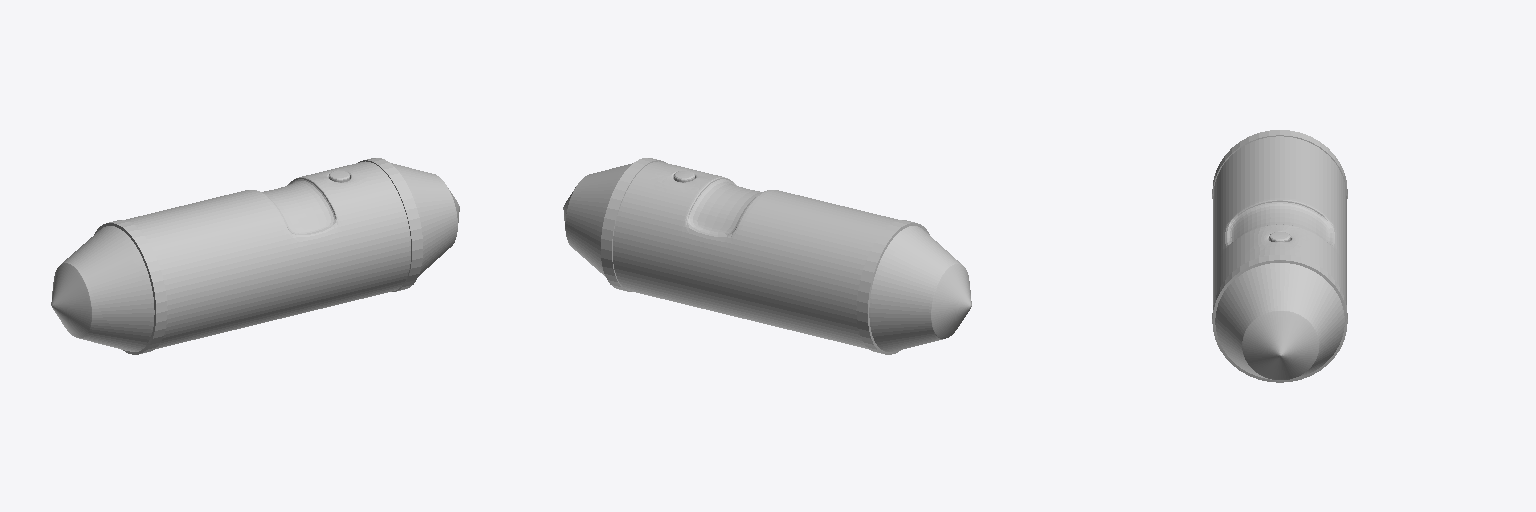
File: pencil-07.obj
The picture shows the model from 3 angles: view 1: azimuth 30°, elevation 25°; view 2: azimuth 150°, elevation 25°; view 3: azimuth 270°, elevation 25°; orthographic projection.
Visible parts, largest first — view 1: Pencil Body, Pencil Eraser, Tip Pencil, Pencil Ring2, Pencil Ring1; view 2: Pencil Body, Pencil Eraser, Tip Pencil, Pencil Ring2, Pencil Ring1; view 3: Pencil Body, Tip Pencil, Pencil Ring1, Pencil Ring2.
Boxes of the visible parts, <box> form: Pencil Body: <box>125,161,410,348</box>; Pencil Eraser: <box>51,226,154,351</box>; Tip Pencil: <box>391,163,459,276</box>; Pencil Ring2: <box>94,220,167,354</box>; Pencil Ring1: <box>358,158,422,291</box>; Pencil Body: <box>613,161,898,348</box>; Pencil Eraser: <box>869,226,971,351</box>; Tip Pencil: <box>563,163,632,276</box>; Pencil Ring2: <box>856,220,929,354</box>; Pencil Ring1: <box>601,158,665,291</box>; Pencil Body: <box>1213,136,1346,304</box>; Tip Pencil: <box>1215,263,1344,379</box>; Pencil Ring1: <box>1212,255,1347,382</box>; Pencil Ring2: <box>1212,130,1347,198</box>.
Size of the model in its own units: 0.2175 by 0.0628 by 0.0625.